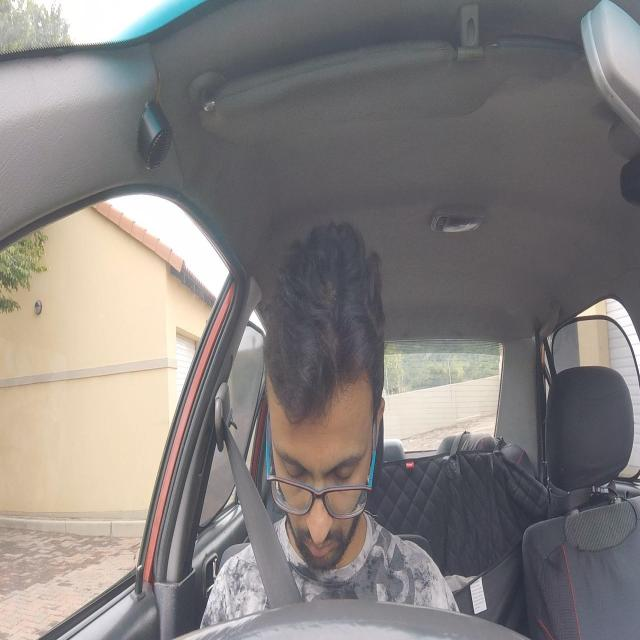close: (328, 447, 358, 487), (280, 449, 306, 486)
